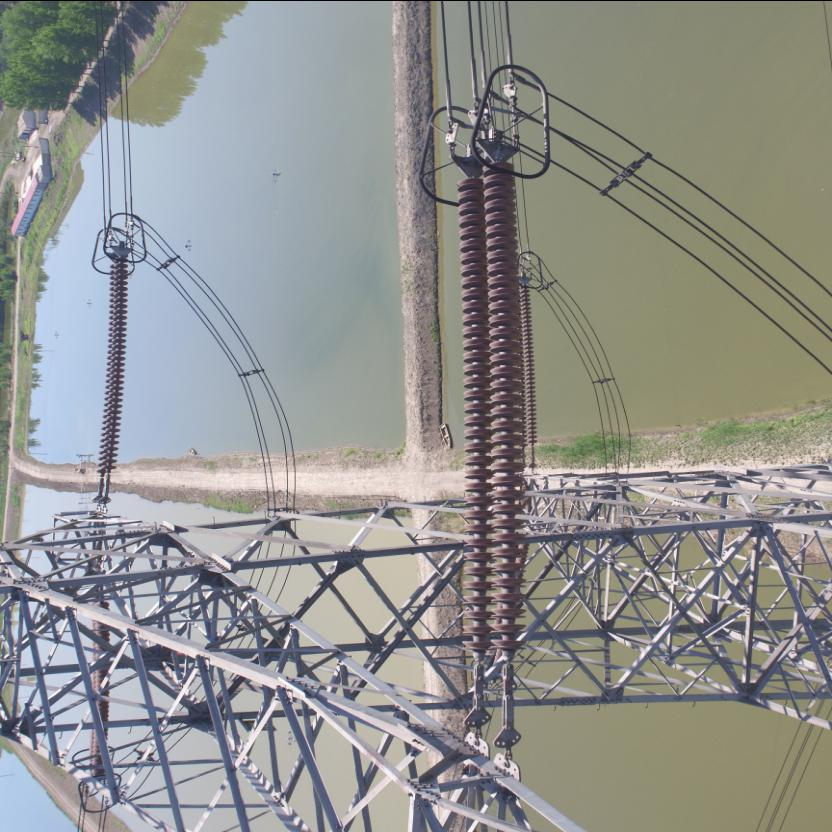insulator: (452, 150, 524, 696), (92, 252, 130, 490)
